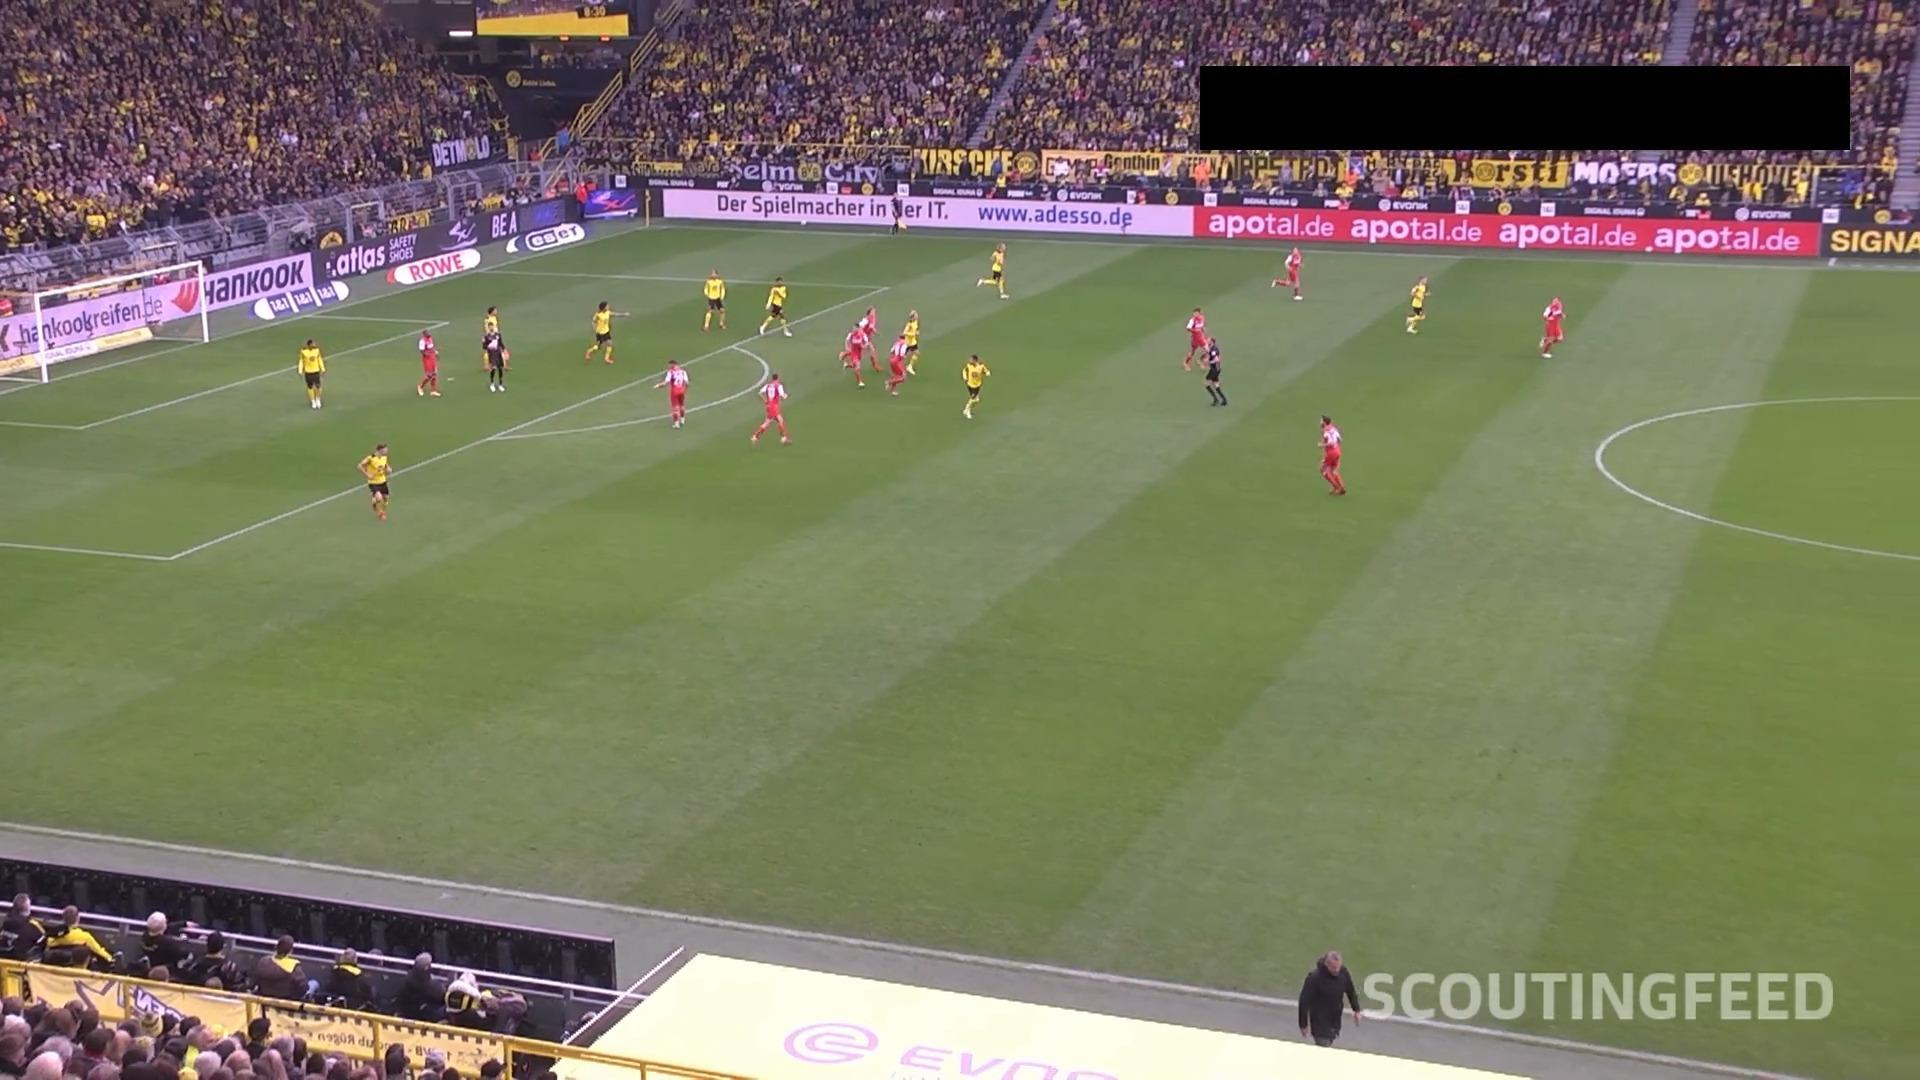coach: (1296, 949, 1363, 1046)
player: (749, 371, 791, 445), (583, 299, 630, 364), (356, 442, 391, 520), (652, 358, 689, 428), (1316, 413, 1346, 495), (758, 275, 793, 337), (296, 337, 326, 409), (838, 321, 869, 388), (480, 324, 510, 392), (975, 241, 1010, 299), (960, 353, 990, 419), (1270, 245, 1304, 300), (415, 328, 442, 396), (1181, 307, 1209, 371), (1538, 295, 1566, 358), (856, 304, 882, 371), (700, 267, 727, 331), (883, 332, 910, 396), (1404, 274, 1430, 333), (899, 308, 921, 376), (481, 304, 500, 342)
referee: (1200, 336, 1228, 406), (887, 194, 906, 234)
